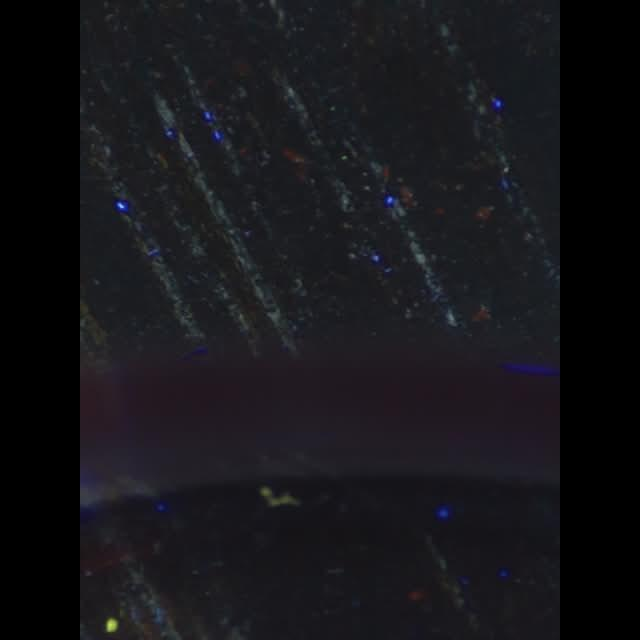Fibre: (260, 482, 302, 512)
microbeads: (104, 616, 120, 634)
